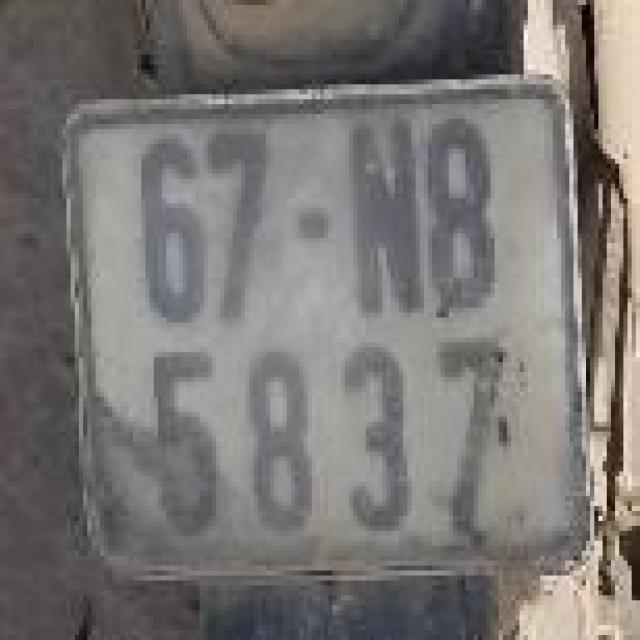3: (352, 340, 409, 548)
5: (144, 337, 222, 536)
6: (137, 134, 204, 332)
7: (432, 332, 511, 546), (206, 131, 272, 330)
8: (428, 129, 515, 322), (241, 340, 316, 528)
N: (357, 127, 420, 315)
